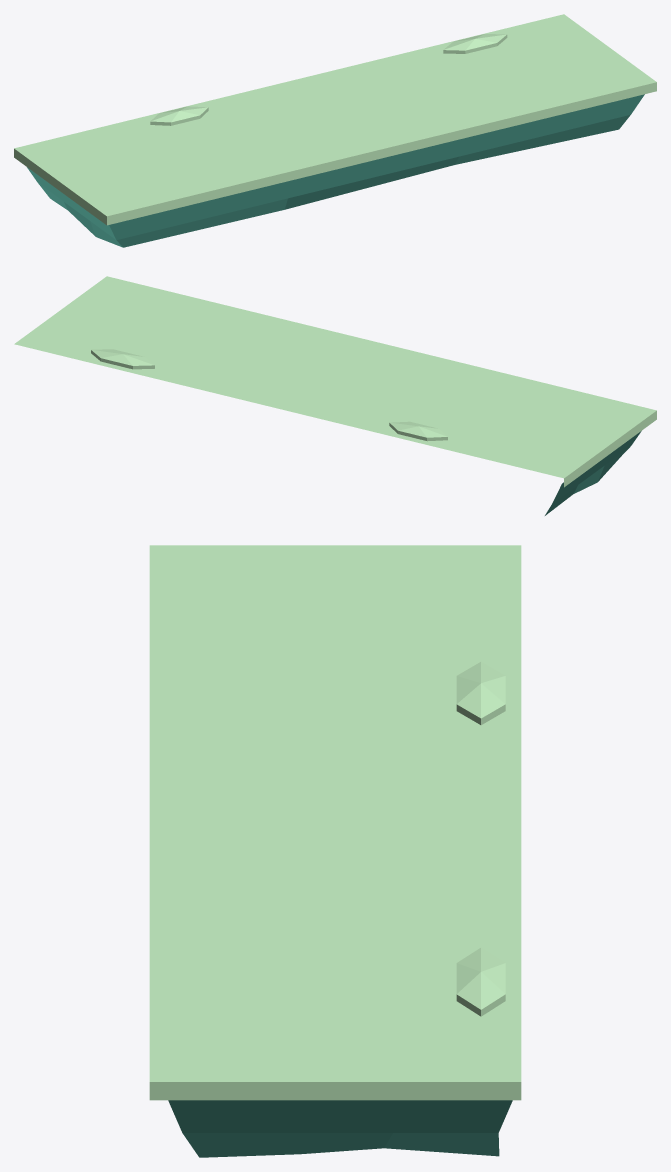
The model's file is floe5.glb.
3 renders of one model, top to bottom at view 1: azimuth 30°, elevation 25°; view 2: azimuth 150°, elevation 25°; view 3: azimuth 270°, elevation 25°, orthographic. The views are drawn at different scales.
Parts seen in each view (by area): view 1: Floe; view 2: Floe; view 3: Floe.
Part boxes in pixels (bbox=[...]): Floe: bbox=[14, 14, 656, 247]; Floe: bbox=[14, 276, 656, 515]; Floe: bbox=[149, 545, 521, 1157].
Size of the model in its own units: 5.06 by 0.5192 by 1.48.
